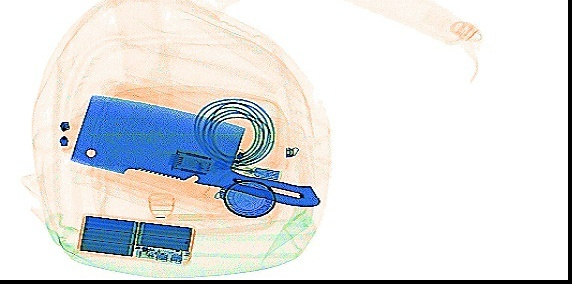knife: (68, 93, 320, 208)
powerbank: (75, 214, 195, 264)
